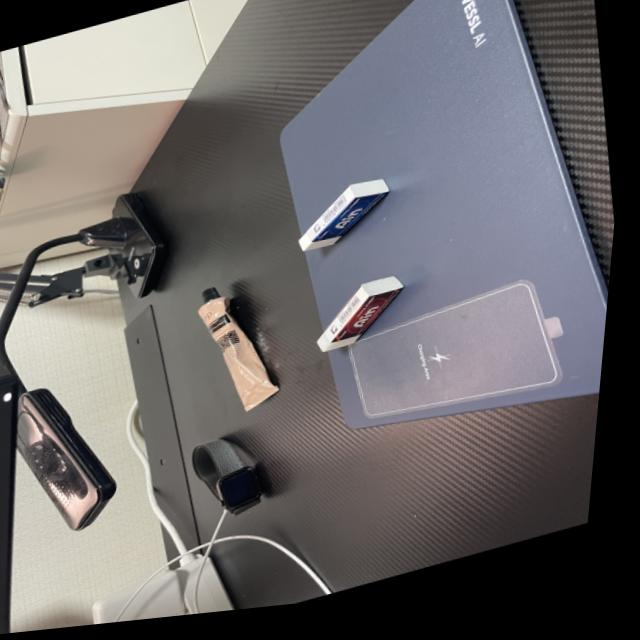blue: (282, 172, 415, 271)
red: (307, 272, 425, 366)
